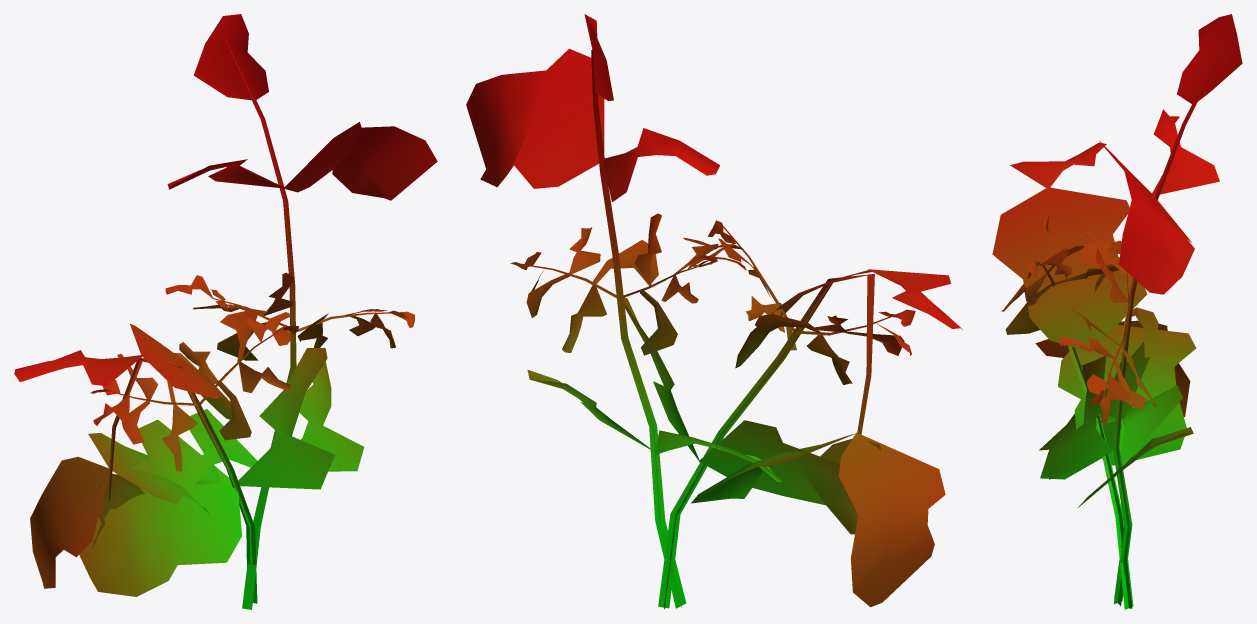
Rendered from White Ramping Fumitory_LOD1_Var5_ti4efc3ia.fbx.
3 views of the same model, side by side, from view 1: azimuth 30°, elevation 25°; view 2: azimuth 150°, elevation 25°; view 3: azimuth 270°, elevation 25° (orthographic). The views are drawn at different scales.
Parts seen in each view (by area): view 1: _d66a_Var5_LOD1; view 2: _d66a_Var5_LOD1; view 3: _d66a_Var5_LOD1.
Part boxes in pixels (<box>): _d66a_Var5_LOD1: <box>14,14,437,609</box>; _d66a_Var5_LOD1: <box>466,14,962,609</box>; _d66a_Var5_LOD1: <box>992,14,1242,609</box>.
Size of the model in its own units: 31.36 by 38.36 by 14.27.
